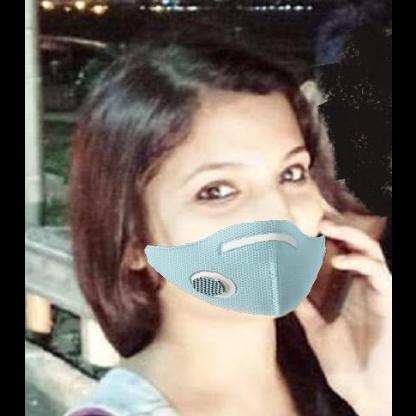FFP Mask: (105, 37, 337, 323)
